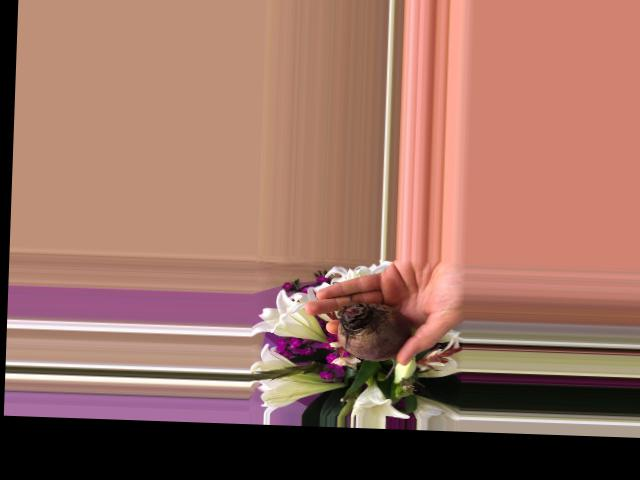beet: (335, 301, 412, 379)
